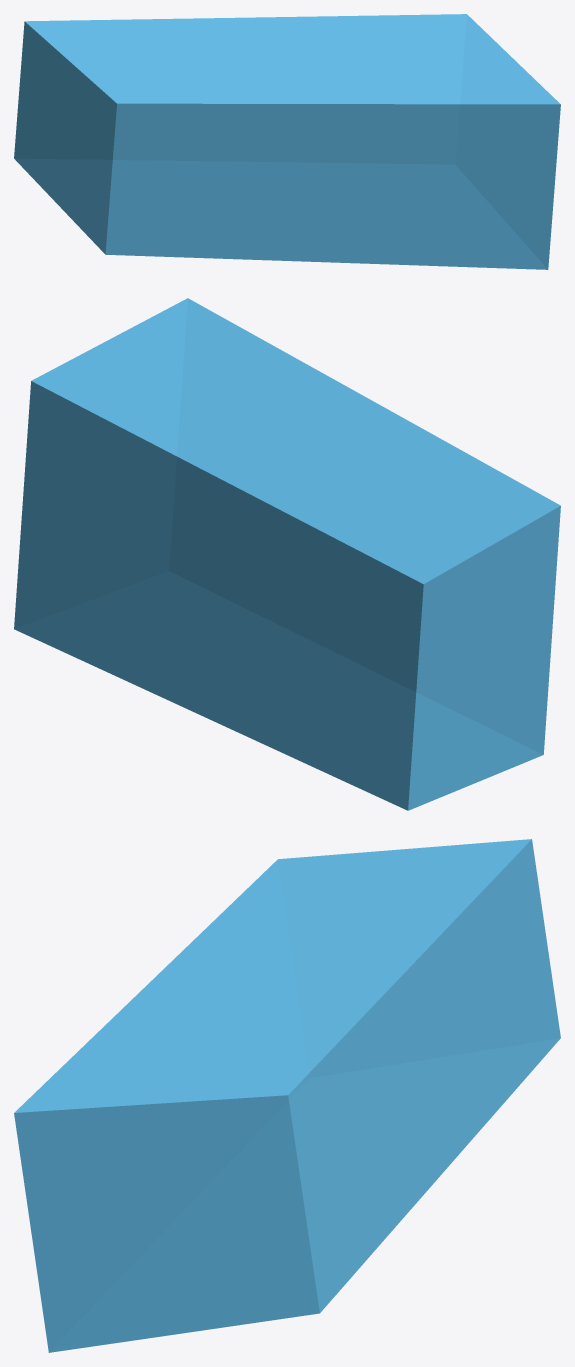
File: Event_421278790_HErechit_31.fbx
3 renders of one model, top to bottom at view 1: azimuth 30°, elevation 25°; view 2: azimuth 150°, elevation 25°; view 3: azimuth 270°, elevation 25°, orthographic. The views are drawn at different scales.
Parts seen in each view (by area): view 1: Model; view 2: Model; view 3: Model.
Boxes of the visible parts, box(x1,y1,x2,y2) form: Model: box(14, 14, 560, 269); Model: box(14, 298, 560, 810); Model: box(14, 839, 560, 1352).
Size of the model in its own units: 1.05 by 0.5788 by 1.02.
